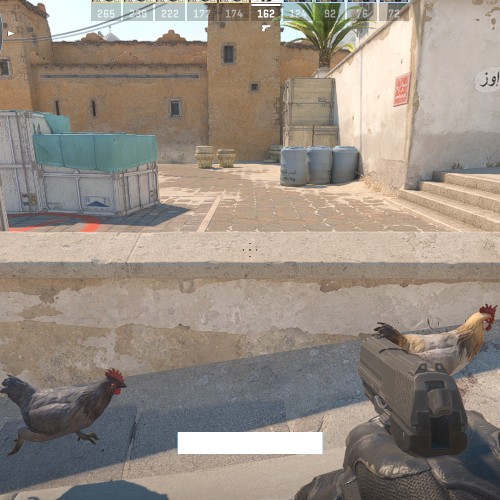chicken: (2, 369, 127, 450), (374, 305, 496, 374)
